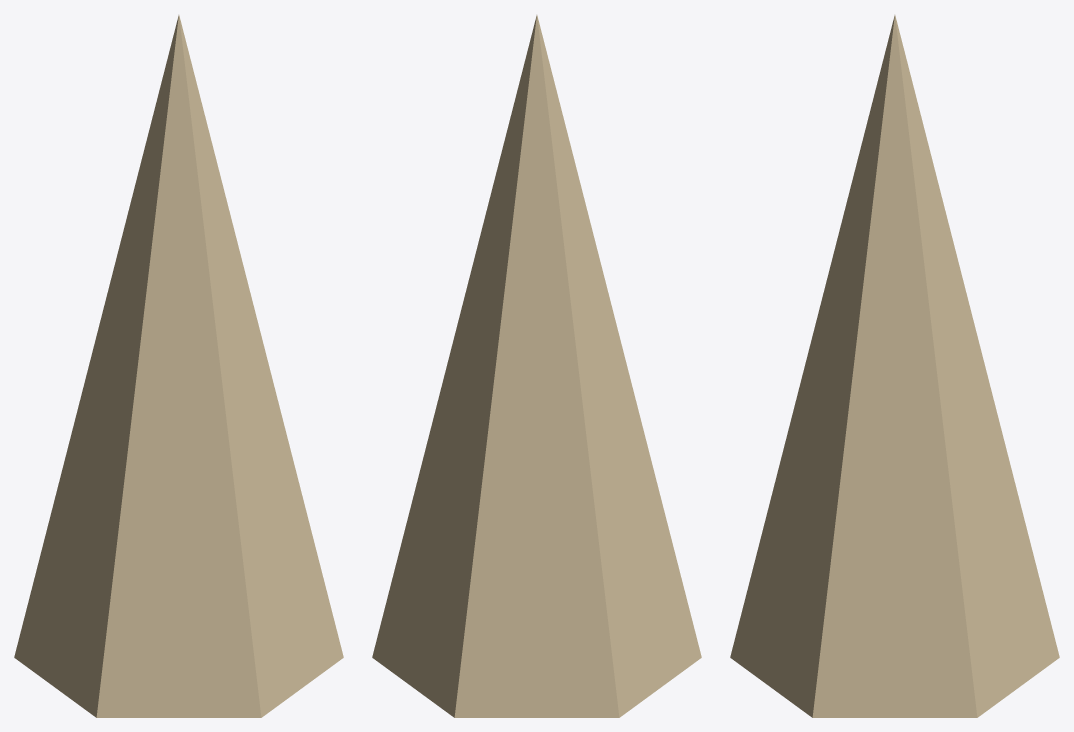
The picture shows the model from 3 angles, left to right: view 1: azimuth 30°, elevation 25°; view 2: azimuth 150°, elevation 25°; view 3: azimuth 270°, elevation 25°; orthographic projection.
Visible parts, largest first — view 1: Thorn; view 2: Thorn; view 3: Thorn.
Part boxes in pixels (<box>): Thorn: <box>14,15,343,717</box>; Thorn: <box>372,15,701,717</box>; Thorn: <box>730,15,1059,717</box>.
Size of the model in its own units: 0.3377 by 0.84 by 0.39.
